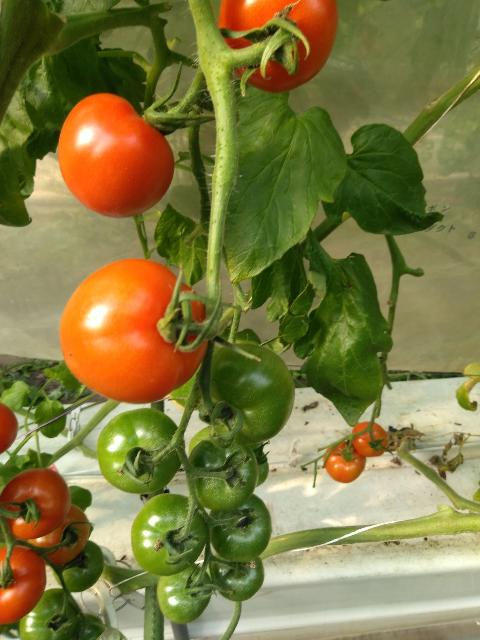l_fully_ripened: (58, 259, 208, 404), (57, 93, 175, 218), (219, 0, 339, 93), (0, 468, 72, 540), (0, 545, 46, 625), (0, 402, 18, 455)
l_green: (204, 342, 296, 444), (97, 408, 185, 494), (131, 493, 209, 576), (185, 436, 260, 512), (208, 493, 272, 562), (157, 563, 213, 625), (19, 588, 77, 640), (52, 540, 104, 593), (211, 551, 264, 601)
l_half_ripened: (26, 503, 90, 566), (322, 441, 366, 483), (351, 421, 388, 457)
